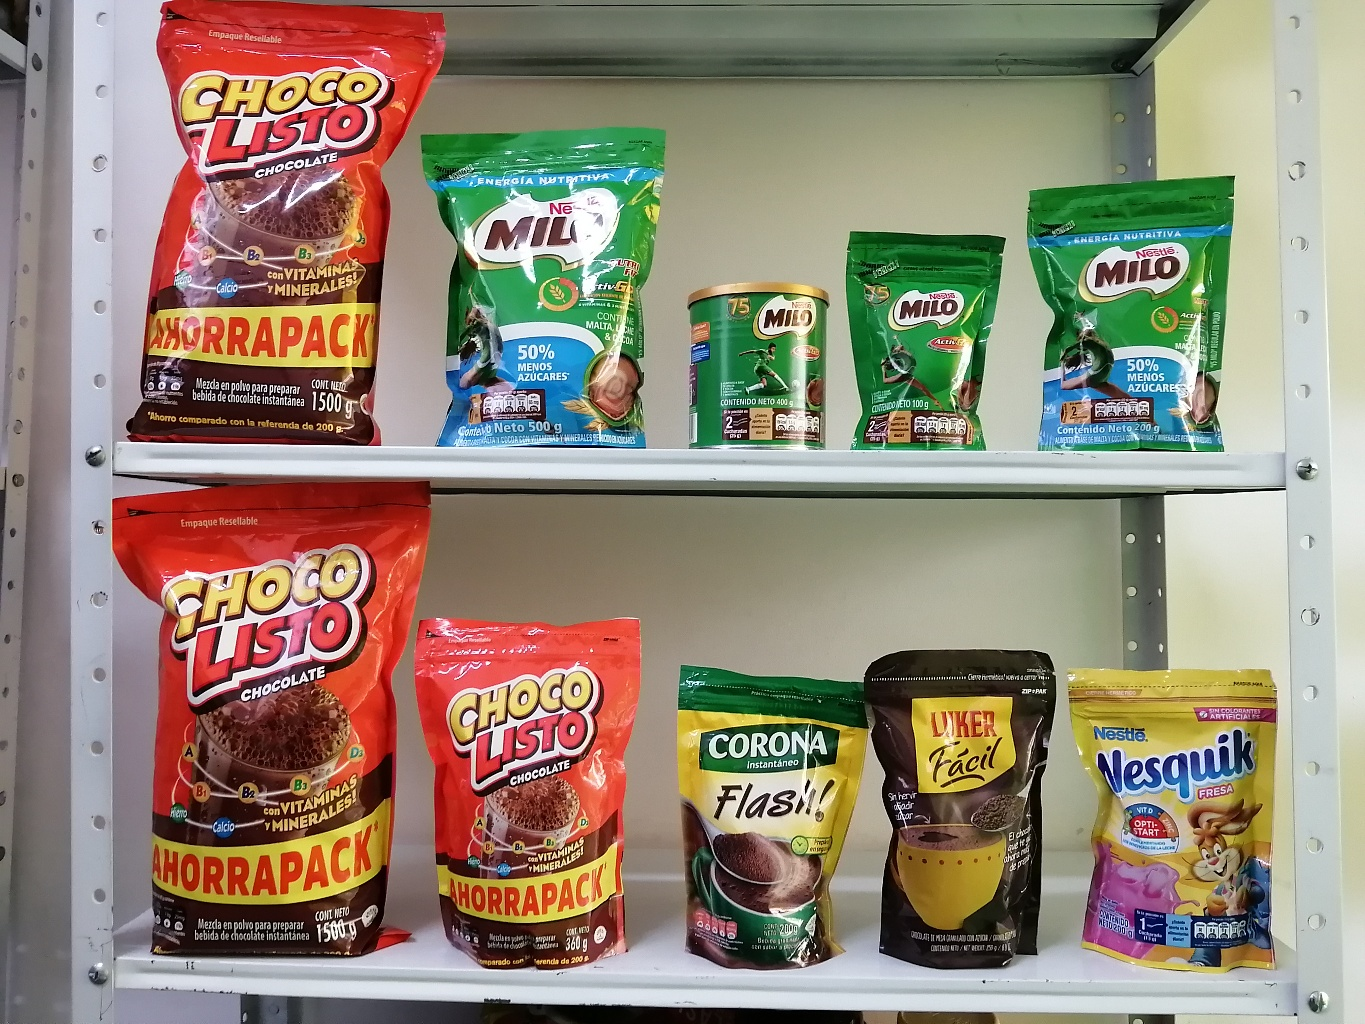COL0170103DYP1,500: (126, 0, 447, 432)
COL0170103DYP36000: (416, 607, 656, 964)
COL0170203DYP10000: (838, 224, 1005, 445)
COL0170203LAT40000: (682, 267, 840, 445)
COL0170205DYP20000: (1030, 174, 1247, 464)
COL0170205DYP50000: (406, 118, 669, 445)
COL0170305DYP20000: (1071, 656, 1288, 970)
